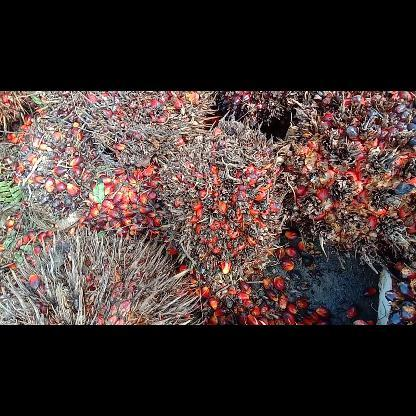Terlalu masak: (155, 118, 289, 298), (284, 91, 414, 275), (0, 224, 207, 325), (70, 90, 221, 172)
